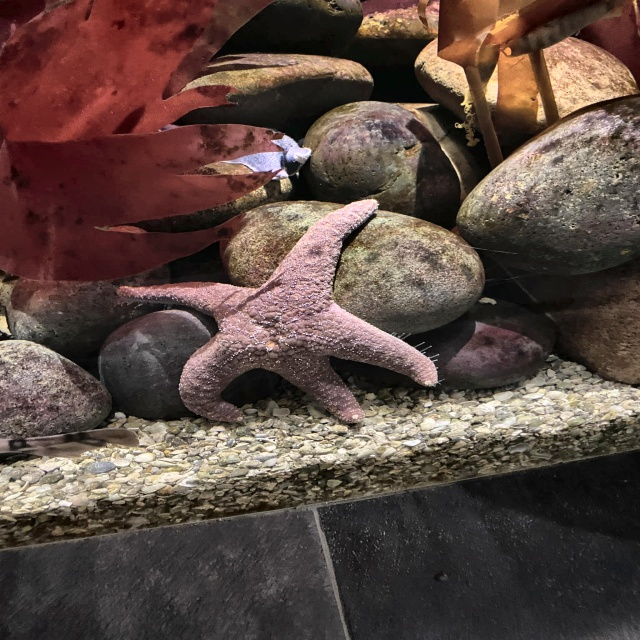starfish: (115, 198, 440, 425)
